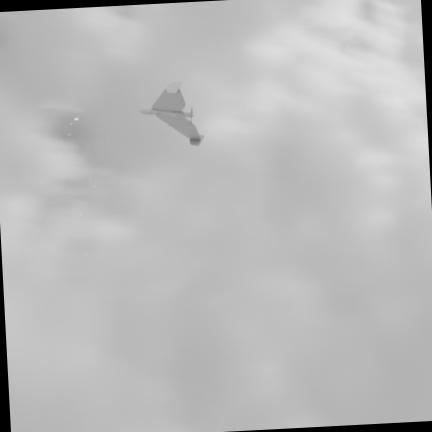Shahed: (139, 81, 204, 144)
